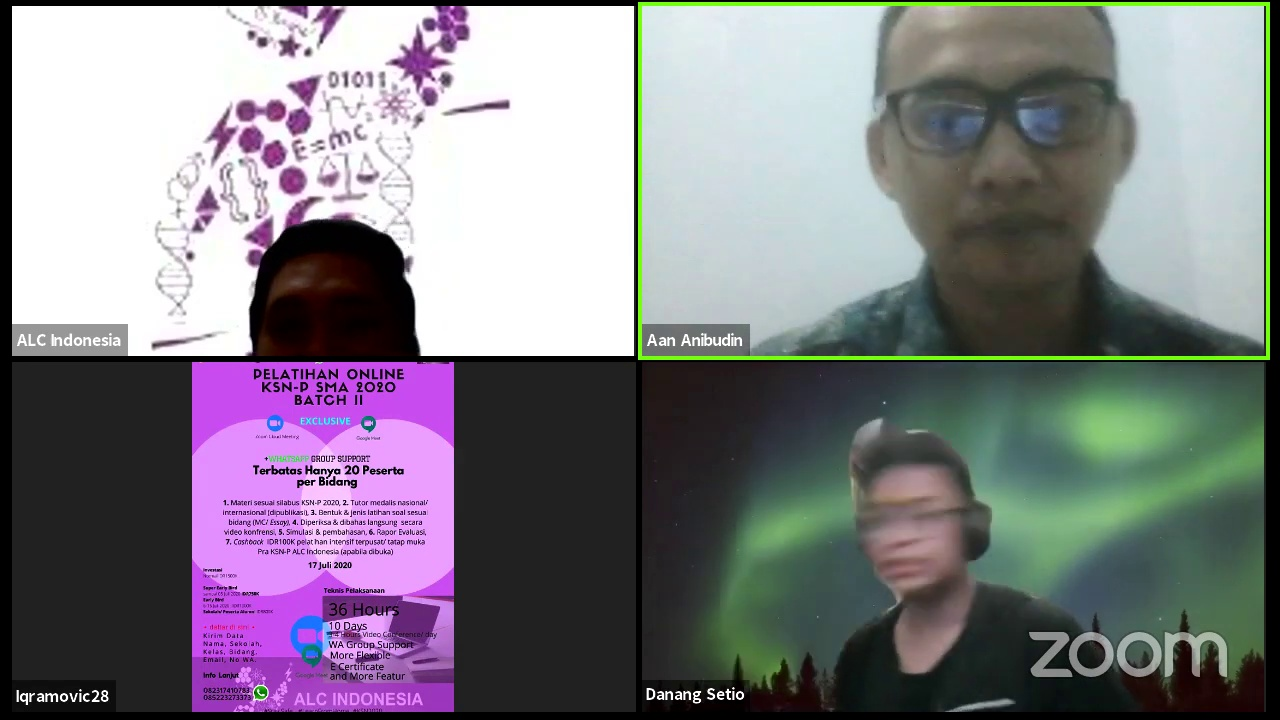Distracted: (834, 421, 993, 601)
Not Distracted: (865, 24, 1136, 283), (252, 229, 411, 350)
